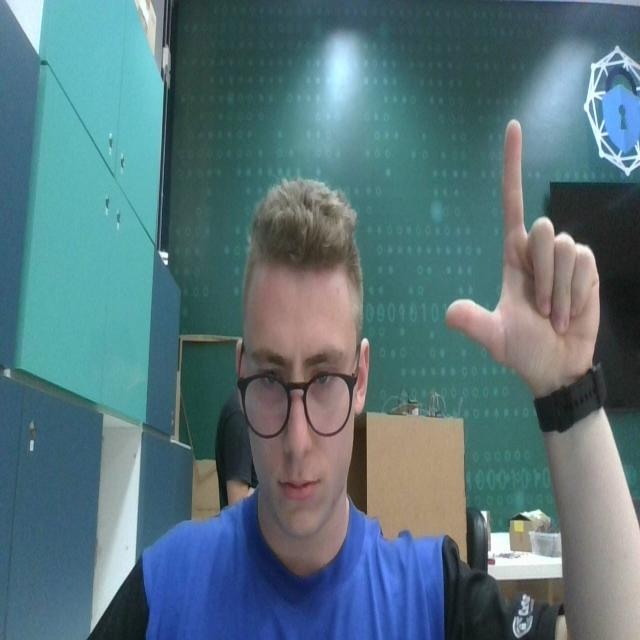L: (442, 107, 602, 380)
